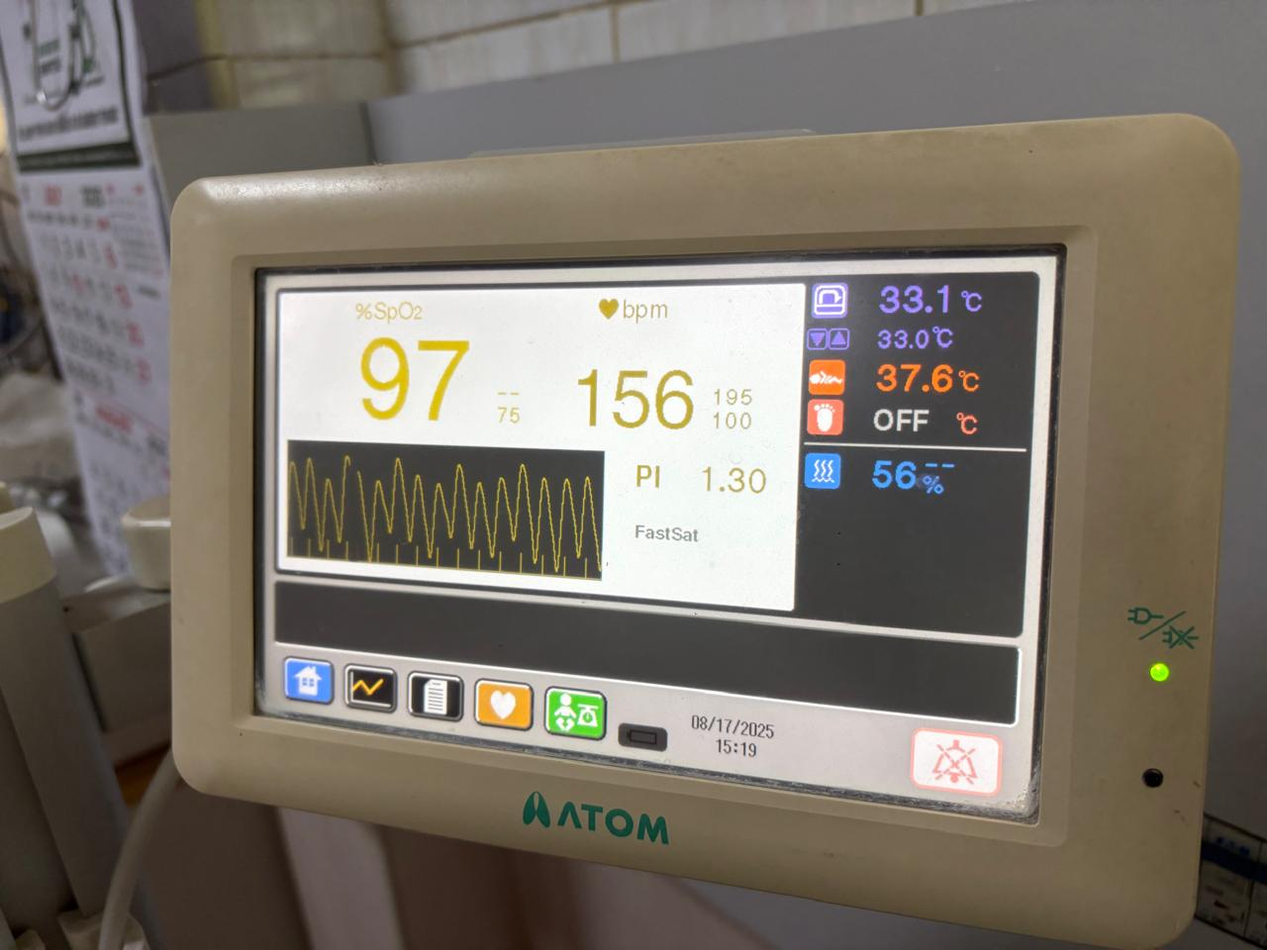air_temp_value: (865, 274, 961, 323)
heart_rate_value: (562, 355, 703, 438)
humidity_value: (860, 451, 919, 500)
skin_temp_value: (862, 352, 958, 402)
spo2_value: (337, 330, 480, 430)
